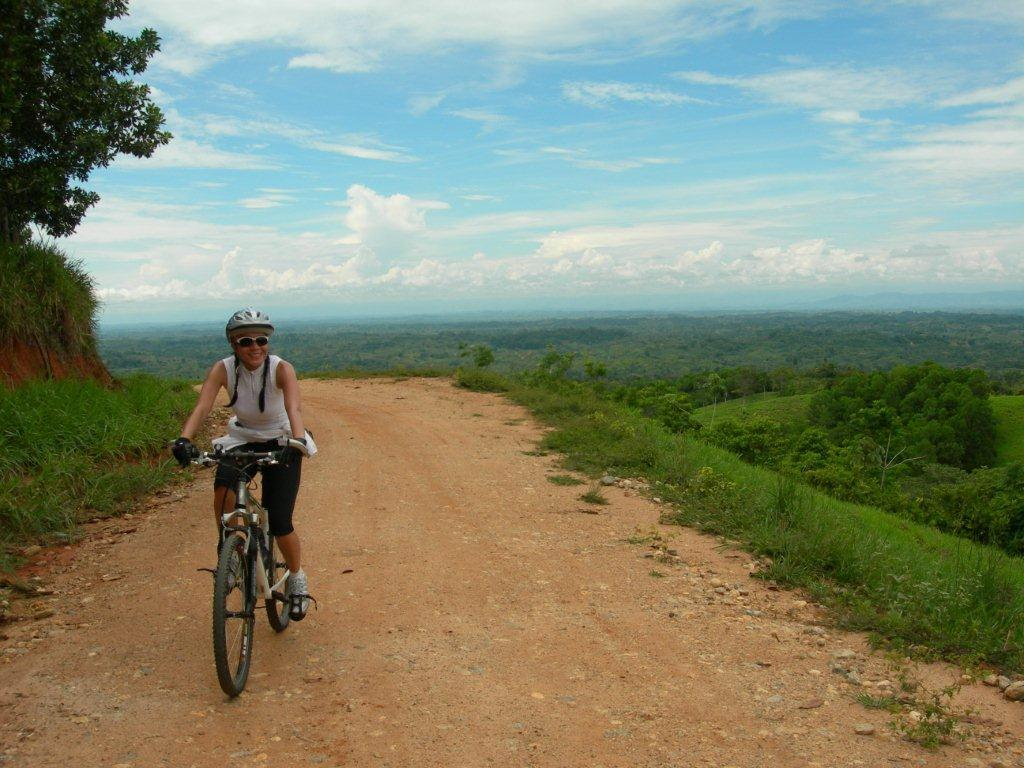Bike_toward: (154, 412, 311, 681)
